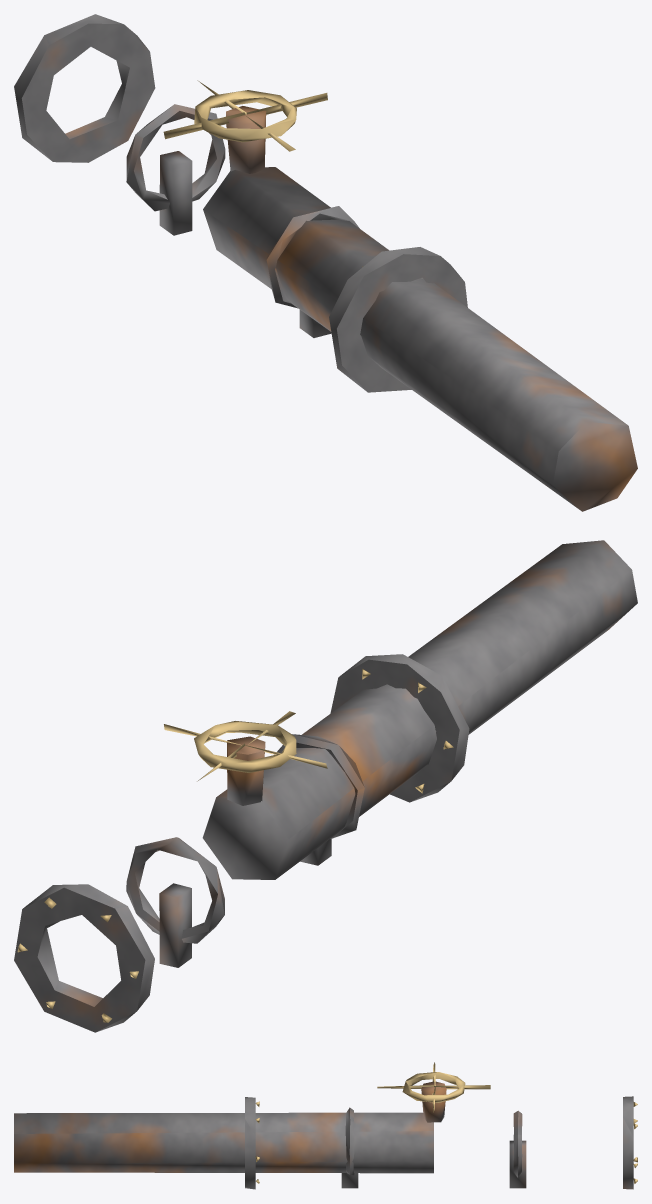
File: pipe_straight_lod1.gltf
3 views of the same model, one above another, from view 1: azimuth 30°, elevation 25°; view 2: azimuth 150°, elevation 25°; view 3: azimuth 270°, elevation 25° (orthographic). The views are drawn at different scales.
Parts seen in each view (by area): view 1: pipe_straight_LOD1; view 2: pipe_straight_LOD1; view 3: pipe_straight_LOD1.
Boxes of the visible parts, <box> form: pipe_straight_LOD1: <box>14,14,637,511</box>; pipe_straight_LOD1: <box>14,540,637,1032</box>; pipe_straight_LOD1: <box>14,1062,637,1189</box>.
Bounding box in the file's own units: 0.646 × 0.6428 × 3.57.
1 material, 1 textured.
